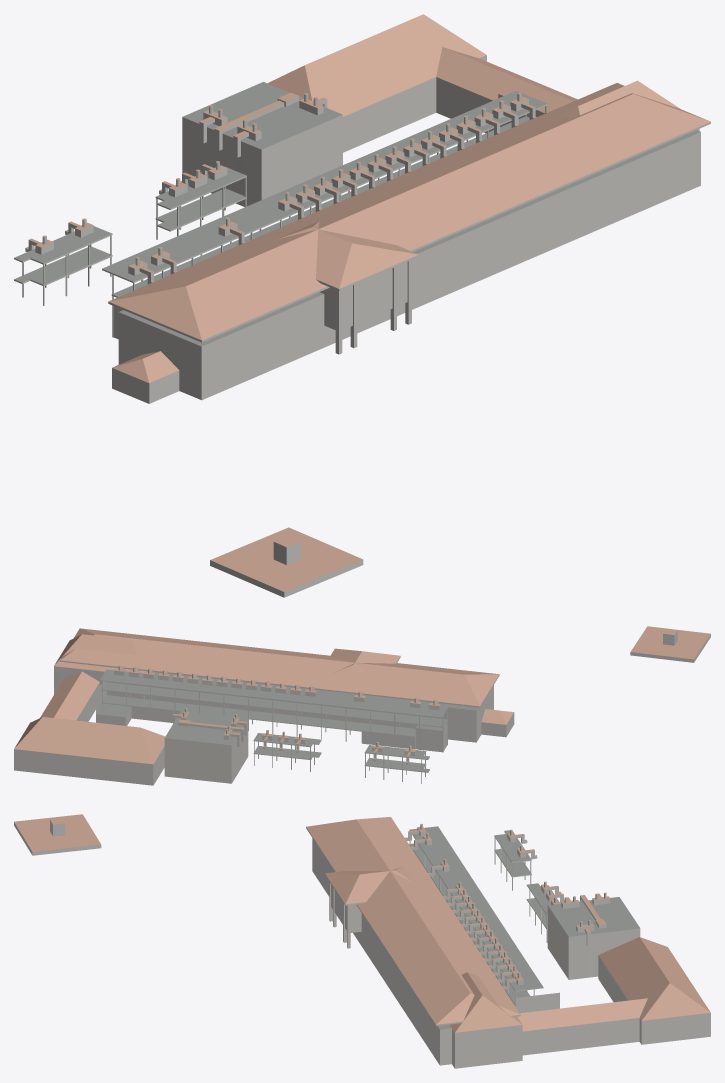
Rendered from gridID_59.dae.
3 renders of one model, top to bottom at view 1: azimuth 30°, elevation 25°; view 2: azimuth 150°, elevation 25°; view 3: azimuth 270°, elevation 25°, orthographic. The views are drawn at different scales.
Visible parts, largest first — view 1: model_gridID_59_w114518345_001, model_gridID_59_w377863656, model_gridID_59_w114518345, model_gridID_59_w375346947, model_gridID_59_w114518345_003, model_gridID_59_w114518345_002; view 2: model_gridID_59_w114518345_001, model_gridID_59_w377863656, model_gridID_59_w114518345, model_gridID_59_w375346947, model_gridID_59_w114518345_003, model_gridID_59_w114518345_002; view 3: model_gridID_59_w114518345_001, model_gridID_59_w377863656, model_gridID_59_w114518345, model_gridID_59_w375346947, model_gridID_59_w114518345_002, model_gridID_59_w114518345_003.
Part boxes in pixels (x1,y1,x2,y2): model_gridID_59_w114518345_001: (108,14,710,403); model_gridID_59_w377863656: (102,91,547,339); model_gridID_59_w114518345: (182,82,342,206); model_gridID_59_w375346947: (210,527,363,597); model_gridID_59_w114518345_003: (155,161,246,239); model_gridID_59_w114518345_002: (14,218,112,305); model_gridID_59_w114518345_001: (14,628,514,785); model_gridID_59_w377863656: (96,665,448,752); model_gridID_59_w114518345: (164,708,248,783); model_gridID_59_w375346947: (630,626,710,662); model_gridID_59_w114518345_003: (253,730,321,771); model_gridID_59_w114518345_002: (364,742,429,783); model_gridID_59_w114518345_001: (306,817,710,1068); model_gridID_59_w377863656: (405,823,559,1013); model_gridID_59_w114518345: (547,892,640,979); model_gridID_59_w375346947: (14,814,101,855); model_gridID_59_w114518345_002: (494,829,537,890); model_gridID_59_w114518345_003: (526,881,564,942).
Size of the model in its own units: 112 by 132 by 12.5.
